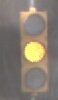Yellow: (14, 10, 53, 100)
